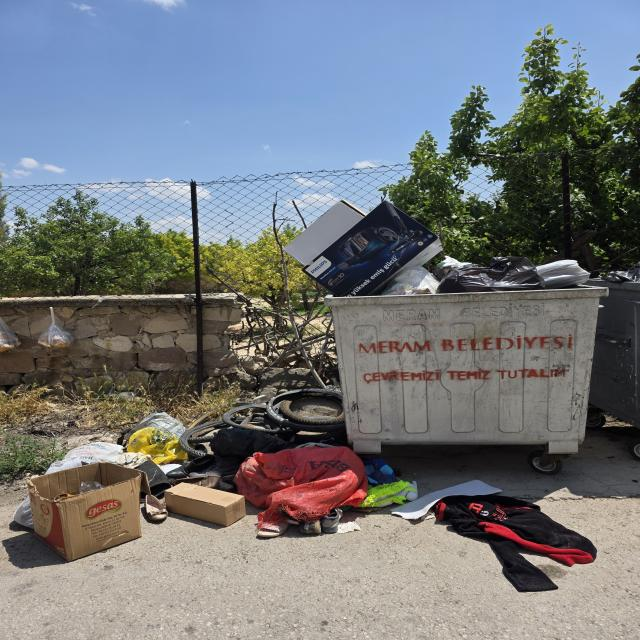garbage: (24, 389, 356, 556), (286, 204, 615, 294), (374, 472, 594, 572), (36, 309, 78, 356)
